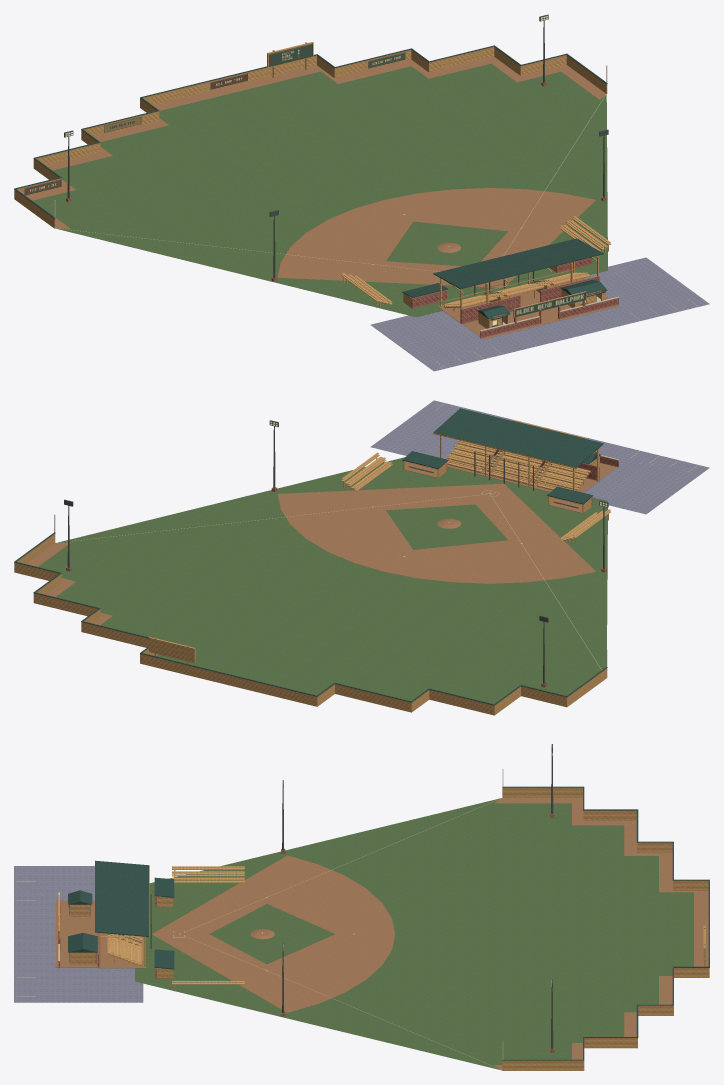
Rendered from alder-bend-1950-far.glb.
3 renders of one model, top to bottom at view 1: azimuth 30°, elevation 25°; view 2: azimuth 150°, elevation 25°; view 3: azimuth 270°, elevation 25°, orthographic.
Parts seen in each view (by area): view 1: diamond, lot, outfield_fence, grandstand, park_buildings, line_bleachers, light_towers, sign_name, sign_scoreboard; view 2: diamond, outfield_fence, grandstand, lot, park_buildings, line_bleachers, light_towers; view 3: diamond, lot, outfield_fence, grandstand, park_buildings, line_bleachers, light_towers.
Boxes of the visible parts, <box> form: diamond: <box>27,57,607,317</box>; lot: <box>370,257,709,371</box>; outfield_fence: <box>14,42,607,228</box>; grandstand: <box>433,238,603,324</box>; park_buildings: <box>402,257,619,338</box>; line_bleachers: <box>341,216,611,307</box>; light_towers: <box>64,14,608,281</box>; sign_name: <box>514,292,585,316</box>; sign_scoreboard: <box>269,43,312,66</box>; diamond: <box>27,451,607,703</box>; outfield_fence: <box>14,514,607,715</box>; grandstand: <box>433,408,603,492</box>; lot: <box>370,400,709,514</box>; park_buildings: <box>402,420,618,513</box>; line_bleachers: <box>341,452,610,544</box>; light_towers: <box>64,420,608,687</box>; diamond: <box>135,798,708,1070</box>; lot: <box>14,866,143,1002</box>; outfield_fence: <box>502,769,709,1070</box>; grandstand: <box>95,860,149,968</box>; park_buildings: <box>58,877,174,978</box>; line_bleachers: <box>172,866,244,991</box>; light_towers: <box>281,744,554,1052</box>.
Size of what is drawn, in the model's own units: 144 by 17.37 by 155.
Materials: 11 (11 with a texture image).
